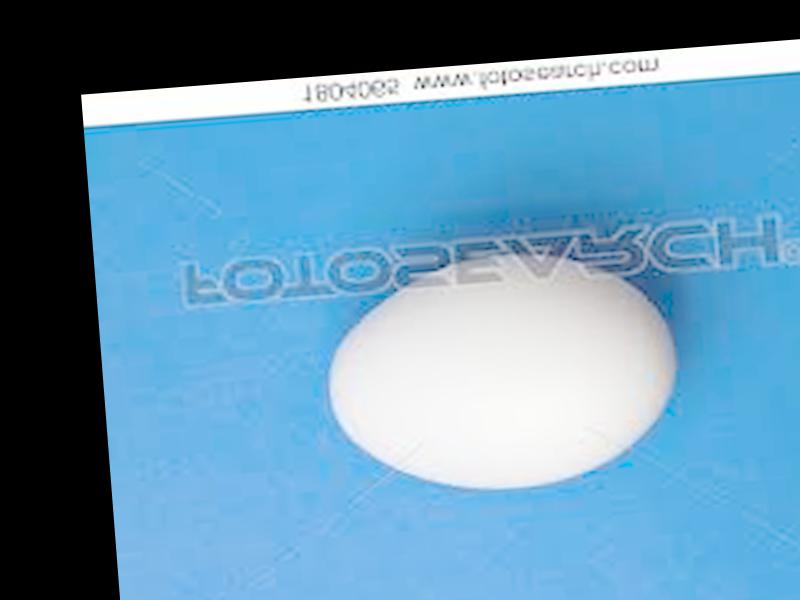Eggs: (320, 236, 684, 500)
